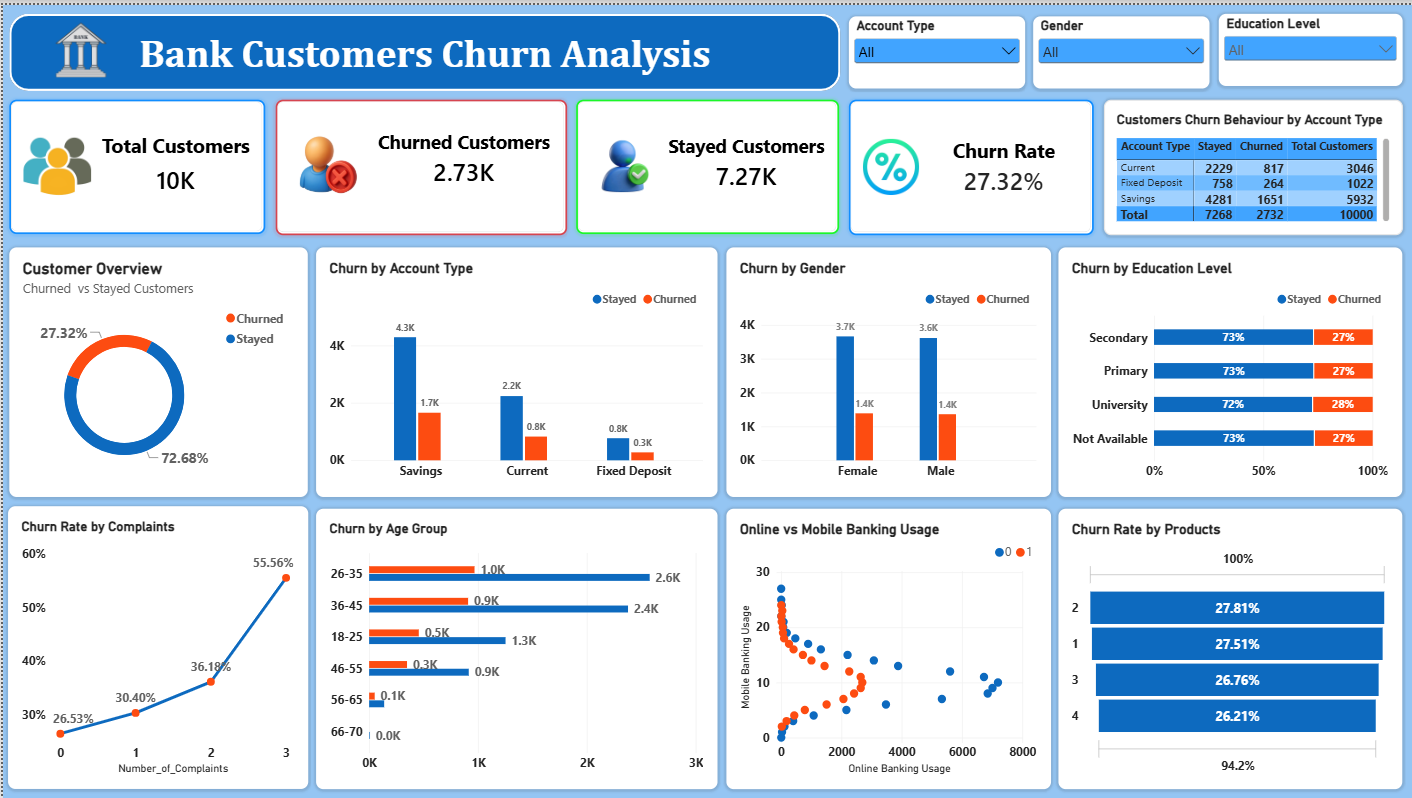

The page's visual inventory and layout, read from the dashboard file:
{"tool":"powerbi","page":{"name":"Page 1","canvas":[1920,1080],"ordinal":0},"visuals":[{"type":"cardVisual","fields":{"Data":["Bank_Churn_Data.Churn Rate %"]},"box":[1150.9,128.1,333.3,184.2],"z":0},{"type":"cardVisual","fields":{"Data":["Bank_Churn_Data.Churned Customers"]},"box":[371.9,128.1,396.5,184.2],"z":1000},{"type":"cardVisual","fields":{"Data":["Bank_Churn_Data.Stayed Customers"]},"box":[780.7,128.1,358.3,183.3],"z":2000},{"type":"cardVisual","title":"Total Customers","fields":{"Data":["Bank_Churn_Data.Total Customers"]},"box":[8.3,128.3,348.3,183.3],"z":3000},{"type":"clusteredColumnChart","title":"Churn by Account Type","fields":{"Category":["Bank_Churn_Data.Account_Type"],"Y":["Bank_Churn_Data.Stayed Customers","Bank_Churn_Data.Churned Customers"]},"box":[426.7,330,546.7,340],"z":4000},{"type":"donutChart","title":"Customer Overview","fields":{"Y":["Bank_Churn_Data.Churned Customers","Bank_Churn_Data.Stayed Customers"]},"box":[8.3,330,406.7,340],"z":5000},{"type":"clusteredColumnChart","title":"Churn by Gender","fields":{"Category":["Bank_Churn_Data.Gender"],"Y":["Bank_Churn_Data.Stayed Customers","Bank_Churn_Data.Churned Customers"]},"box":[985,330,441.7,340],"z":6000},{"type":"hundredPercentStackedBarChart","title":"Churn by Education Level","fields":{"Category":["Bank_Churn_Data.Education_Level"],"Y":["Bank_Churn_Data.Stayed Customers","Bank_Churn_Data.Churned Customers"]},"box":[1436.7,330,468.3,340],"z":7000},{"type":"funnel","title":"Churn Rate by Products","fields":{"Category":["Bank_Churn_Data.Number_of_Products"],"Y":["Bank_Churn_Data.Churn Rate %"]},"box":[1436.7,685,468.3,381.7],"z":8000},{"type":"lineChart","title":"Churn Rate  by Complaints","fields":{"Category":["Bank_Churn_Data.Number_of_Complaints"],"Y":["Bank_Churn_Data.Churn Rate %"]},"box":[6.7,681.7,408.3,385],"z":9000},{"type":"scatterChart","title":"Online vs Mobile Banking Usage","fields":{"Series":["Bank_Churn_Data.Churn"],"X":["Sum(Bank_Churn_Data.Online_Banking_Usage)"],"Y":["Bank_Churn_Data.Mobile_Banking_Usage"]},"box":[985,685,441.7,381.7],"z":10000},{"type":"pivotTable","title":" Customers Churn Behaviour by Account Type","fields":{"Rows":["Bank_Churn_Data.Account_Type"],"Values":["Bank_Churn_Data.Stayed Customers","Bank_Churn_Data.Churned Customers","Bank_Churn_Data.Total Customers"]},"box":[1498.2,128.1,407,184.2],"z":11000},{"type":"clusteredBarChart","title":"Churn by Age Group","fields":{"Category":["Bank_Churn_Data.Age Group"],"Y":["Bank_Churn_Data.Churned Customers","Bank_Churn_Data.Stayed Customers"]},"box":[426.7,685,546.7,381.7],"z":12000},{"type":"shape","box":[8.3,11.7,1131.7,105],"z":12001},{"type":"image","box":[0,11.7,211.7,98.3],"z":12002},{"type":"slicer","fields":{"Values":["Bank_Churn_Data.Account_Type"]},"box":[1151.7,15,240,98.3],"z":12003},{"type":"slicer","fields":{"Values":["Bank_Churn_Data.Gender"]},"box":[1403.3,15,240,98.3],"z":12004},{"type":"slicer","fields":{"Values":["Bank_Churn_Data.Education_Level"]},"box":[1655,11.7,250,98.3],"z":12005}]}

Visuals, with their boxes in screenshot pixels (x1, y1, x2, y2), scaled from the page's 1920x1080 canvas onto the 1412x798 screenshot:
cardVisual - Bank_Churn_Data.Churn Rate %: locate(846, 95, 1092, 231)
cardVisual - Bank_Churn_Data.Churned Customers: locate(274, 95, 565, 231)
cardVisual - Bank_Churn_Data.Stayed Customers: locate(574, 95, 838, 230)
"Total Customers" cardVisual: locate(6, 95, 262, 230)
"Churn by Account Type" clusteredColumnChart: locate(314, 244, 716, 495)
"Customer Overview" donutChart: locate(6, 244, 305, 495)
"Churn by Gender" clusteredColumnChart: locate(724, 244, 1049, 495)
"Churn by Education Level" hundredPercentStackedBarChart: locate(1057, 244, 1401, 495)
"Churn Rate by Products" funnel: locate(1057, 506, 1401, 788)
"Churn Rate  by Complaints" lineChart: locate(5, 504, 305, 788)
"Online vs Mobile Banking Usage" scatterChart: locate(724, 506, 1049, 788)
" Customers Churn Behaviour by Account Type" pivotTable: locate(1102, 95, 1401, 231)
"Churn by Age Group" clusteredBarChart: locate(314, 506, 716, 788)
shape: locate(6, 9, 838, 86)
image: locate(0, 9, 156, 81)
slicer - Bank_Churn_Data.Account_Type: locate(847, 11, 1023, 84)
slicer - Bank_Churn_Data.Gender: locate(1032, 11, 1209, 84)
slicer - Bank_Churn_Data.Education_Level: locate(1217, 9, 1401, 81)
